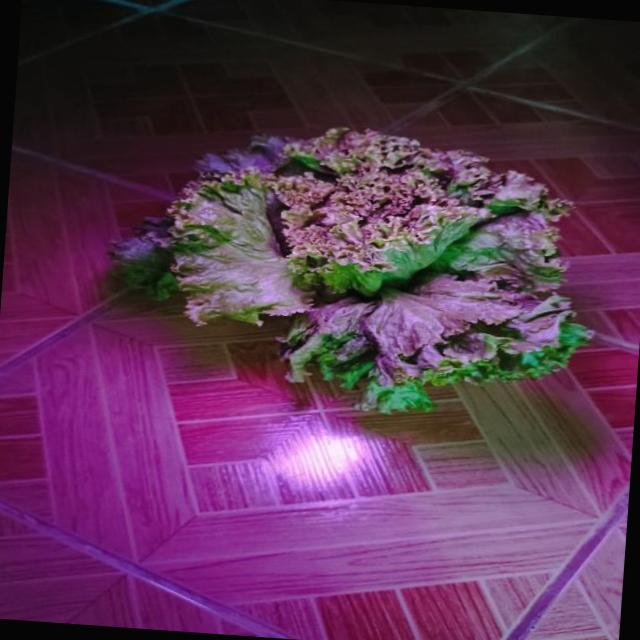Lettuce-Ready-to-Harvest: (122, 127, 589, 412)
